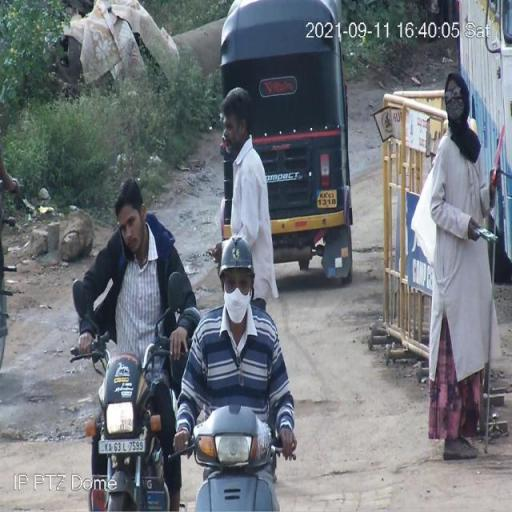numberplate: (94, 440, 144, 453)
using mobile: (114, 218, 142, 274)
